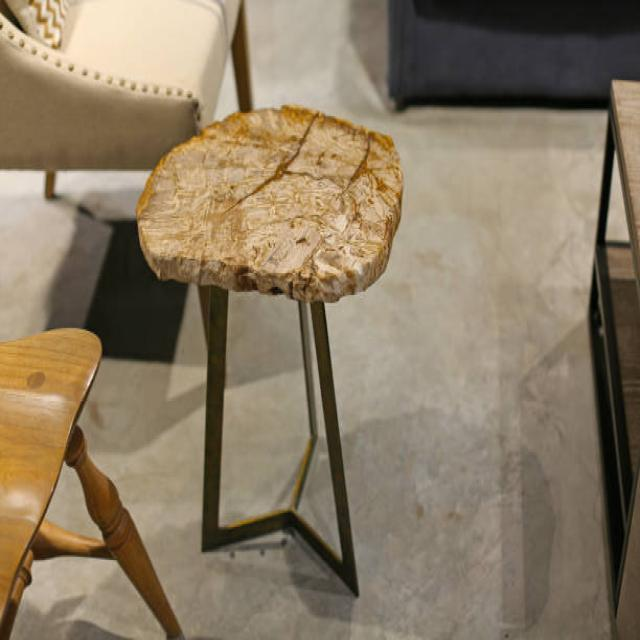table: (135, 102, 404, 596), (586, 76, 640, 638)
